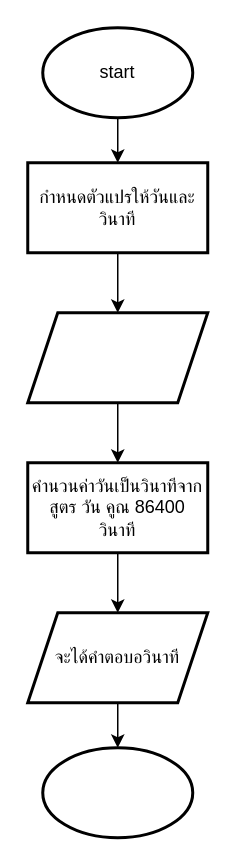
Some shapes in this 234 by 864 pixel diagram are drawn without their labels. The shapes that lost their labels are listed below. From the top down, each one's centre as x and y in pixels, then its label:
At point (117, 357): "ป้อมค่าตัวเลขวันที่ต้องการ".
At point (117, 792): "end".
